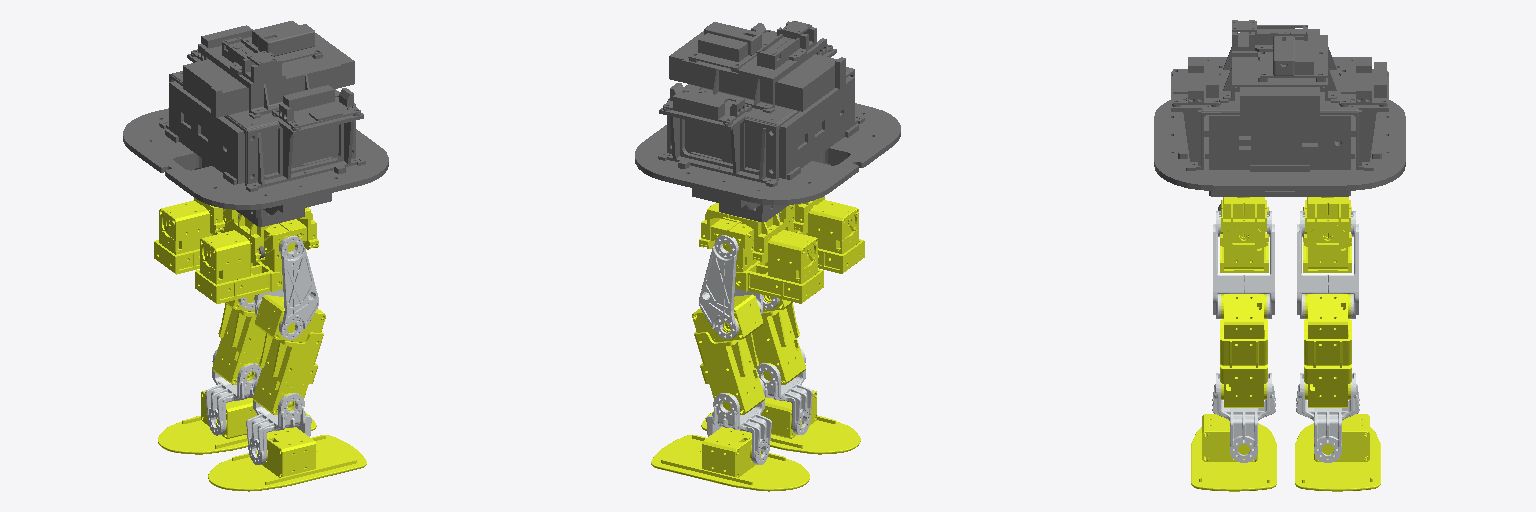
URDF robot description (exhx5_w_b_16):
<?xml version="1.0" encoding="utf-8"?>
<!-- This URDF was automatically created by SolidWorks to URDF Exporter! Originally created by [author] ([email redacted]) 
     Commit Version: 1.5.1-0-g916b5db  Build Version: 1.5.7152.31018
     For more information, please see http://wiki.ros.org/sw_urdf_exporter -->
<robot
  name="exhx5_w_b_16">
  <link
    name="body_link">
    <inertial>
      <origin
        xyz="0.00043545 0.00025536 0.10071"
        rpy="0 0 0" />
      <mass
        value="1.8238" />
      <inertia
        ixx="0.0025905"
        ixy="-5.6852E-06"
        ixz="-1.3106E-05"
        iyy="0.0024595"
        iyz="-1.261E-06"
        izz="0.0046407" />
    </inertial>
    <visual>
      <origin
        xyz="0 0 0"
        rpy="0 0 0" />
      <geometry>
        <mesh
          filename="../meshes/body_link.STL" />
      </geometry>
      <material
        name="">
        <color
          rgba="0.49804 0.49804 0.49804 1" />
      </material>
    </visual>
    <collision>
      <origin
        xyz="0 0 0"
        rpy="0 0 0" />
      <geometry>
        <mesh
          filename="../meshes/body_link.STL" />
      </geometry>
    </collision>
  </link>

  <link
    name="imu_link">
    <inertial>
      <origin
        xyz="-0.008387 1.336E-17 -0.0069463"
        rpy="0 0 0" />
      <mass
        value="0.0062931" />
      <inertia
        ixx="3.2242E-07"
        ixy="3.3527E-22"
        ixz="-6.9193E-08"
        iyy="9.2229E-07"
        iyz="-8.0392E-22"
        izz="1.1018E-06" />
    </inertial>
    <visual>
      <origin
        xyz="0 0 0"
        rpy="0 0 0" />
      <geometry>
        <mesh
          filename="../meshes/imu_link.STL" />
      </geometry>
      <material
        name="">
        <color
          rgba="0.79216 0.81961 0.93333 1" />
      </material>
    </visual>
    <collision>
      <origin
        xyz="0 0 0"
        rpy="0 0 0" />
      <geometry>
        <mesh
          filename="../meshes/imu_link.STL" />
      </geometry>
    </collision>
  </link>
  <joint
    name="imu"
    type="fixed">
    <origin
      xyz="0 0 0.0492"
      rpy="0 0 0" />
    <parent
      link="body_link" />
    <child
      link="imu_link" />
    <axis
      xyz="0 0 0" />
    <limit
      lower="-3.14"
      upper="3.14"
      effort="4"
      velocity="4" />
  </joint>
  <link
    name="l_hip_g_link">
    <inertial>
      <origin
        xyz="-0.0043797 -8.6604E-08 0.011813"
        rpy="0 0 0" />
      <mass
        value="0.061008" />
      <inertia
        ixx="1.167E-05"
        ixy="7.1767E-11"
        ixz="9.1442E-09"
        iyy="2.2342E-05"
        iyz="2.5177E-11"
        izz="2.4892E-05" />
    </inertial>
    <visual>
      <origin
        xyz="0 0 0"
        rpy="0 0 0" />
      <geometry>
        <mesh
          filename="../meshes/l_hip_g_link.STL" />
      </geometry>
      <material
        name="">
        <color
          rgba="0.9451 1 0.18431 1" />
      </material>
    </visual>
    <collision>
      <origin
        xyz="0 0 0"
        rpy="0 0 0" />
      <geometry>
        <mesh
          filename="../meshes/l_hip_g_link.STL" />
      </geometry>
    </collision>
  </link>
  <joint
    name="l_hip_g"
    type="fixed">
    <origin
      xyz=".001 .040 0"
      rpy="0 0 0" />
    <parent
      link="body_link" />
    <child
      link="l_hip_g_link" />
    <axis
      xyz="0 0 0" />
  </joint>
  <link
    name="l_hip_roll_link">
    <inertial>
      <origin
        xyz="0.013831 0.00033457 0.025453"
        rpy="0 0 0" />
      <mass
        value="0.2969" />
      <inertia
        ixx="7.8136E-05"
        ixy="7.265E-07"
        ixz="-6.9809E-08"
        iyy="9.2183E-05"
        iyz="-5.6881E-11"
        izz="7.1034E-05" />
    </inertial>
    <visual>
      <origin
        xyz="0 0 0"
        rpy="0 0 0" />
      <geometry>
        <mesh
          filename="../meshes/l_hip_roll_link.STL" />
      </geometry>
      <material
        name="">
        <color
          rgba="0.9451 1 0.18431 1" />
      </material>
    </visual>
    <collision>
      <origin
        xyz="0 0 0"
        rpy="0 0 0" />
      <geometry>
        <mesh
          filename="../meshes/l_hip_roll_link.STL" />
      </geometry>
    </collision>
  </link>
  <joint
    name="l_hip_roll"
    type="revolute">
    <origin
      xyz="0 0 0"
      rpy="3.1416 1.5708 0" />
    <parent
      link="l_hip_g_link" />
    <child
      link="l_hip_roll_link" />
    <axis
      xyz="0 0 1" />
    <limit
      lower="-3.14"
      upper="3.14"
      effort="4"
      velocity="4" />
  </joint>
  <link
    name="l_hip_pitch_link">
    <inertial>
      <origin
        xyz="0.041225 -0.007321 -5.0713E-08"
        rpy="0 0 0" />
      <mass
        value="0.051592" />
      <inertia
        ixx="2.7959E-05"
        ixy="2.0752E-06"
        ixz="-8.0934E-11"
        iyy="4.8156E-05"
        iyz="3.6317E-11"
        izz="2.9604E-05" />
    </inertial>
    <visual>
      <origin
        xyz="0 0 0"
        rpy="0 0 0" />
      <geometry>
        <mesh
          filename="../meshes/l_hip_pitch_link.STL" />
      </geometry>
      <material
        name="">
        <color
          rgba="0.89804 0.91765 0.92941 1" />
      </material>
    </visual>
    <collision>
      <origin
        xyz="0 0 0"
        rpy="0 0 0" />
      <geometry>
        <mesh
          filename="../meshes/l_hip_pitch_link.STL" />
      </geometry>
    </collision>
  </link>
  <joint
    name="l_hip_pitch"
    type="revolute">
    <origin
      xyz="0 0 0"
      rpy="1.5708 0 0" />
    <parent
      link="l_hip_roll_link" />
    <child
      link="l_hip_pitch_link" />
    <axis
      xyz="0 0 1" />
    <limit
      lower="-3.14"
      upper="3.14"
      effort="4"
      velocity="4" />
  </joint>
  <link
    name="l_knee_link">
    <inertial>
      <origin
        xyz="0.033756 -0.0084189 -6.6115E-09"
        rpy="0 0 0" />
      <mass
        value="0.28878" />
      <inertia
        ixx="6.6724E-05"
        ixy="7.5004E-07"
        ixz="-8.4578E-07"
        iyy="6.5699E-05"
        iyz="4.1085E-07"
        izz="7.0381E-05" />
    </inertial>
    <visual>
      <origin
        xyz="0 0 0"
        rpy="0 0 0" />
      <geometry>
        <mesh
          filename="../meshes/l_knee_link.STL" />
      </geometry>
      <material
        name="">
        <color
          rgba="0.9451 1 0.18431 1" />
      </material>
    </visual>
    <collision>
      <origin
        xyz="0 0 0"
        rpy="0 0 0" />
      <geometry>
        <mesh
          filename="../meshes/l_knee_link.STL" />
      </geometry>
    </collision>
  </link>
  <joint
    name="l_knee"
    type="revolute">
    <origin
      xyz="0.075954 0 0"
      rpy="0 0 0" />
    <parent
      link="l_hip_pitch_link" />
    <child
      link="l_knee_link" />
    <axis
      xyz="0 0 1" />
    <limit
      lower="-3.14"
      upper="3.14"
      effort="4"
      velocity="4" />
  </joint>
  <link
    name="l_ank_pitch_link">
    <inertial>
      <origin
        xyz="0.022786 -7.3909E-09 -7.1981E-06"
        rpy="0 0 0" />
      <mass
        value="0.044772" />
      <inertia
        ixx="1.777E-05"
        ixy="8.555E-14"
        ixz="-3.3713E-09"
        iyy="1.7119E-05"
        iyz="1.7593E-11"
        izz="1.8661E-05" />
    </inertial>
    <visual>
      <origin
        xyz="0 0 0"
        rpy="0 0 0" />
      <geometry>
        <mesh
          filename="../meshes/l_ank_pitch_link.STL" />
      </geometry>
      <material
        name="">
        <color
          rgba="0.89804 0.91765 0.92941 1" />
      </material>
    </visual>
    <collision>
      <origin
        xyz="0 0 0"
        rpy="0 0 0" />
      <geometry>
        <mesh
          filename="../meshes/l_ank_pitch_link.STL" />
      </geometry>
    </collision>
  </link>
  <joint
    name="l_ank_pitch"
    type="revolute">
    <origin
      xyz="0.074602 0 0"
      rpy="3.1416 0 0" />
    <parent
      link="l_knee_link" />
    <child
      link="l_ank_pitch_link" />
    <axis
      xyz="0 0 1" />
    <limit
      lower="-3.14"
      upper="3.14"
      effort="4"
      velocity="4" />
  </joint>
  <link
    name="l_ank_roll_link">
    <inertial>
      <origin
        xyz="0.0047069 0.010728 0.0015299"
        rpy="0 0 0" />
      <mass
        value="0.16774" />
      <inertia
        ixx="0.00012039"
        ixy="-3.7428E-09"
        ixz="4.4069E-08"
        iyy="8.7735E-05"
        iyz="7.0469E-07"
        izz="4.7866E-05" />
    </inertial>
    <visual>
      <origin
        xyz="0 0 0"
        rpy="0 0 0" />
      <geometry>
        <mesh
          filename="../meshes/l_ank_roll_link.STL" />
      </geometry>
      <material
        name="">
        <color
          rgba="0.9451 1 0.18431 1" />
      </material>
    </visual>
    <collision>
      <origin
        xyz="0 0 0"
        rpy="0 0 0" />
      <geometry>
        <mesh
          filename="../meshes/l_ank_roll_link.STL" />
      </geometry>
    </collision>
  </link>
  <joint
    name="l_ank_roll"
    type="revolute">
    <origin
      xyz="0.0465 0 0"
      rpy="-1.5708 0 0" />
    <parent
      link="l_ank_pitch_link" />
    <child
      link="l_ank_roll_link" />
    <axis
      xyz="0 0 1" />
    <limit
      lower="-3.14"
      upper="3.14"
      effort="4"
      velocity="4" />
  </joint>
  <link
    name="r_hip_g_link">
    <inertial>
      <origin
        xyz="-0.0043797 -8.6604E-08 0.011813"
        rpy="0 0 0" />
      <mass
        value="0.061008" />
      <inertia
        ixx="1.167E-05"
        ixy="7.1767E-11"
        ixz="9.1442E-09"
        iyy="2.2342E-05"
        iyz="2.5177E-11"
        izz="2.4892E-05" />
    </inertial>
    <visual>
      <origin
        xyz="0 0 0"
        rpy="0 0 0" />
      <geometry>
        <mesh
          filename="../meshes/r_hip_g_link.STL" />
      </geometry>
      <material
        name="">
        <color
          rgba="0.9451 1 0.18431 1" />
      </material>
    </visual>
    <collision>
      <origin
        xyz="0 0 0"
        rpy="0 0 0" />
      <geometry>
        <mesh
          filename="../meshes/r_hip_g_link.STL" />
      </geometry>
    </collision>
  </link>
  <joint
    name="r_hip_g"
    type="fixed">
    <origin
      xyz=".001 -.030 0"
      rpy="0 0 0" />
    <parent
      link="body_link" />
    <child
      link="r_hip_g_link" />
    <axis
      xyz="0 0 0" />
  </joint>
  <link
    name="r_hip_roll_link">
    <inertial>
      <origin
        xyz="0.013831 0.00033457 0.025453"
        rpy="0 0 0" />
      <mass
        value="0.2969" />
      <inertia
        ixx="7.8136E-05"
        ixy="7.265E-07"
        ixz="-6.9809E-08"
        iyy="9.2183E-05"
        iyz="-5.6881E-11"
        izz="7.1034E-05" />
    </inertial>
    <visual>
      <origin
        xyz="0 0 0"
        rpy="0 0 0" />
      <geometry>
        <mesh
          filename="../meshes/r_hip_roll_link.STL" />
      </geometry>
      <material
        name="">
        <color
          rgba="0.9451 1 0.18431 1" />
      </material>
    </visual>
    <collision>
      <origin
        xyz="0 0 0"
        rpy="0 0 0" />
      <geometry>
        <mesh
          filename="../meshes/r_hip_roll_link.STL" />
      </geometry>
    </collision>
  </link>
  <joint
    name="r_hip_roll"
    type="revolute">
    <origin
      xyz="0 0 0"
      rpy="3.1416 1.5708 0" />
    <parent
      link="r_hip_g_link" />
    <child
      link="r_hip_roll_link" />
    <axis
      xyz="0 0 1" />
    <limit
      lower="-3.14"
      upper="3.14"
      effort="4"
      velocity="4" />
  </joint>
  <link
    name="r_hip_pitch_link">
    <inertial>
      <origin
        xyz="0.041225 0.007321 5.0713E-08"
        rpy="0 0 0" />
      <mass
        value="0.051592" />
      <inertia
        ixx="2.7959E-05"
        ixy="-2.0752E-06"
        ixz="8.0934E-11"
        iyy="4.8156E-05"
        iyz="3.6317E-11"
        izz="2.9604E-05" />
    </inertial>
    <visual>
      <origin
        xyz="0 0 0"
        rpy="0 0 0" />
      <geometry>
        <mesh
          filename="../meshes/r_hip_pitch_link.STL" />
      </geometry>
      <material
        name="">
        <color
          rgba="0.89804 0.91765 0.92941 1" />
      </material>
    </visual>
    <collision>
      <origin
        xyz="0 0 0"
        rpy="0 0 0" />
      <geometry>
        <mesh
          filename="../meshes/r_hip_pitch_link.STL" />
      </geometry>
    </collision>
  </link>
  <joint
    name="r_hip_pitch"
    type="revolute">
    <origin
      xyz="0 0 0"
      rpy="-1.5708 0 0" />
    <parent
      link="r_hip_roll_link" />
    <child
      link="r_hip_pitch_link" />
    <axis
      xyz="0 0 1" />
    <limit
      lower="-3.14"
      upper="3.14"
      effort="4"
      velocity="4" />
  </joint>
  <link
    name="r_knee_link">
    <inertial>
      <origin
        xyz="0.033757 0.0084176 6.6115E-09"
        rpy="0 0 0" />
      <mass
        value="0.28878" />
      <inertia
        ixx="6.6724E-05"
        ixy="-7.5008E-07"
        ixz="8.458E-07"
        iyy="6.5699E-05"
        iyz="4.1081E-07"
        izz="7.0381E-05" />
    </inertial>
    <visual>
      <origin
        xyz="0 0 0"
        rpy="0 0 0" />
      <geometry>
        <mesh
          filename="../meshes/r_knee_link.STL" />
      </geometry>
      <material
        name="">
        <color
          rgba="0.9451 1 0.18431 1" />
      </material>
    </visual>
    <collision>
      <origin
        xyz="0 0 0"
        rpy="0 0 0" />
      <geometry>
        <mesh
          filename="../meshes/r_knee_link.STL" />
      </geometry>
    </collision>
  </link>
  <joint
    name="r_knee"
    type="revolute">
    <origin
      xyz="0.075954 0 0"
      rpy="0 0 0" />
    <parent
      link="r_hip_pitch_link" />
    <child
      link="r_knee_link" />
    <axis
      xyz="0 0 1" />
    <limit
      lower="-3.14"
      upper="3.14"
      effort="4"
      velocity="4" />
  </joint>
  <link
    name="r_ank_pitch_link">
    <inertial>
      <origin
        xyz="0.025786 -7.3887E-09 -7.1981E-06"
        rpy="0 0 0" />
      <mass
        value="0.044772" />
      <inertia
        ixx="1.777E-05"
        ixy="8.5434E-14"
        ixz="-3.3713E-09"
        iyy="1.7119E-05"
        iyz="1.7592E-11"
        izz="1.8661E-05" />
    </inertial>
    <visual>
      <origin
        xyz="0 0 0"
        rpy="0 0 0" />
      <geometry>
        <mesh
          filename="../meshes/r_ank_pitch_link.STL" />
      </geometry>
      <material
        name="">
        <color
          rgba="0.89804 0.91765 0.92941 1" />
      </material>
    </visual>
    <collision>
      <origin
        xyz="0 0 0"
        rpy="0 0 0" />
      <geometry>
        <mesh
          filename="../meshes/r_ank_pitch_link.STL" />
      </geometry>
    </collision>
  </link>
  <joint
    name="r_ank_pitch"
    type="revolute">
    <origin
      xyz="0.071602 0 0"
      rpy="3.1416 0 0" />
    <parent
      link="r_knee_link" />
    <child
      link="r_ank_pitch_link" />
    <axis
      xyz="0 0 1" />
    <limit
      lower="-3.14"
      upper="3.14"
      effort="4"
      velocity="4" />
  </joint>
  <link
    name="r_ank_roll_link">
    <inertial>
      <origin
        xyz="0.0077069 -0.010728 0.0015299"
        rpy="0 0 0" />
      <mass
        value="0.16774" />
      <inertia
        ixx="0.00012039"
        ixy="3.743E-09"
        ixz="4.407E-08"
        iyy="8.7735E-05"
        iyz="-7.0467E-07"
        izz="4.7866E-05" />
    </inertial>
    <visual>
      <origin
        xyz="0 0 0"
        rpy="0 0 0" />
      <geometry>
        <mesh
          filename="../meshes/r_ank_roll_link.STL" />
      </geometry>
      <material
        name="">
        <color
          rgba="0.9451 1 0.18431 1" />
      </material>
    </visual>
    <collision>
      <origin
        xyz="0 0 0"
        rpy="0 0 0" />
      <geometry>
        <mesh
          filename="../meshes/r_ank_roll_link.STL" />
      </geometry>
    </collision>
  </link>
  <joint
    name="r_ank_roll"
    type="revolute">
    <origin
      xyz="0.0465 0 0"
      rpy="1.5708 0 0" />
    <parent
      link="r_ank_pitch_link" />
    <child
      link="r_ank_roll_link" />
    <axis
      xyz="0 0 1" />
    <limit
      lower="-3.14"
      upper="3.14"
      effort="4"
      velocity="4" />
  </joint>
  <transmission name="r_hip_roll_tran">
    <type>transmission_interface/SimpleTransmission</type>
    <joint name="r_hip_roll">
      <hardwareInterface>hardware_interface/EffortJointInterface</hardwareInterface>
    </joint>
    <actuator name="r_hip_roll_motor">
      <hardwareInterface>hardware_interface/EffortJointInterface</hardwareInterface>
      <mechanicalReduction>1</mechanicalReduction>
    </actuator>
  </transmission>
  <transmission name="r_hip_pitch_tran">
    <type>transmission_interface/SimpleTransmission</type>
    <joint name="r_hip_pitch">
      <hardwareInterface>hardware_interface/EffortJointInterface</hardwareInterface>
    </joint>
    <actuator name="r_hip_pitch_motor">
      <hardwareInterface>hardware_interface/EffortJointInterface</hardwareInterface>
      <mechanicalReduction>1</mechanicalReduction>
    </actuator>
  </transmission>
  <transmission name="r_knee_tran">
    <type>transmission_interface/SimpleTransmission</type>
    <joint name="r_knee">
      <hardwareInterface>hardware_interface/EffortJointInterface</hardwareInterface>
    </joint>
    <actuator name="r_knee_motor">
      <hardwareInterface>hardware_interface/EffortJointInterface</hardwareInterface>
      <mechanicalReduction>1</mechanicalReduction>
    </actuator>
  </transmission>
  <transmission name="r_ank_pitch_tran">
    <type>transmission_interface/SimpleTransmission</type>
    <joint name="r_ank_pitch">
      <hardwareInterface>hardware_interface/EffortJointInterface</hardwareInterface>
    </joint>
    <actuator name="r_ank_pitch_motor">
      <hardwareInterface>hardware_interface/EffortJointInterface</hardwareInterface>
      <mechanicalReduction>1</mechanicalReduction>
    </actuator>
  </transmission>
  <transmission name="r_ank_roll_tran">
    <type>transmission_interface/SimpleTransmission</type>
    <joint name="r_ank_roll">
      <hardwareInterface>hardware_interface/EffortJointInterface</hardwareInterface>
    </joint>
    <actuator name="r_ank_roll_motor">
      <hardwareInterface>hardware_interface/EffortJointInterface</hardwareInterface>
      <mechanicalReduction>1</mechanicalReduction>
    </actuator>
  </transmission>
  <transmission name="l_hip_roll_tran">
    <type>transmission_interface/SimpleTransmission</type>
    <joint name="l_hip_roll">
      <hardwareInterface>hardware_interface/EffortJointInterface</hardwareInterface>
    </joint>
    <actuator name="l_hip_roll_motor">
      <hardwareInterface>hardware_interface/EffortJointInterface</hardwareInterface>
      <mechanicalReduction>1</mechanicalReduction>
    </actuator>
  </transmission>
  <transmission name="l_hip_pitch_tran">
    <type>transmission_interface/SimpleTransmission</type>
    <joint name="l_hip_pitch">
      <hardwareInterface>hardware_interface/EffortJointInterface</hardwareInterface>
    </joint>
    <actuator name="l_hip_pitch_motor">
      <hardwareInterface>hardware_interface/EffortJointInterface</hardwareInterface>
      <mechanicalReduction>1</mechanicalReduction>
    </actuator>
  </transmission>
  <transmission name="l_knee_tran">
    <type>transmission_interface/SimpleTransmission</type>
    <joint name="l_knee">
      <hardwareInterface>hardware_interface/EffortJointInterface</hardwareInterface>
    </joint>
    <actuator name="l_knee_motor">
      <hardwareInterface>hardware_interface/EffortJointInterface</hardwareInterface>
      <mechanicalReduction>1</mechanicalReduction>
    </actuator>
  </transmission>
  <transmission name="l_ank_pitch_tran">
    <type>transmission_interface/SimpleTransmission</type>
    <joint name="l_ank_pitch">
      <hardwareInterface>hardware_interface/EffortJointInterface</hardwareInterface>
    </joint>
    <actuator name="l_ank_pitch_motor">
      <hardwareInterface>hardware_interface/EffortJointInterface</hardwareInterface>
      <mechanicalReduction>1</mechanicalReduction>
    </actuator>
  </transmission>
  <transmission name="l_ank_roll_tran">
    <type>transmission_interface/SimpleTransmission</type>
    <joint name="l_ank_roll">
      <hardwareInterface>hardware_interface/EffortJointInterface</hardwareInterface>
    </joint>
    <actuator name="l_ank_roll_motor">
      <hardwareInterface>hardware_interface/EffortJointInterface</hardwareInterface>
      <mechanicalReduction>1</mechanicalReduction>
    </actuator>
  </transmission>
</robot>

--- Facts derived from the render (not from the file) ---
3 views of the same robot in one strip: view 1: azimuth 30°, elevation 25°; view 2: azimuth 150°, elevation 25°; view 3: azimuth 270°, elevation 25° (orthographic).
Robot: exhx5_w_b_16 — 14 links, 13 joints (10 revolute, 3 fixed); root link body_link; default pose: all joints at 0.
Links seen in each view (by area): view 1: body_link, r_ank_roll_link, r_hip_roll_link, r_knee_link, l_hip_roll_link, l_ank_roll_link, r_hip_pitch_link, l_knee_link, r_ank_pitch_link, l_ank_pitch_link, r_hip_g_link; view 2: body_link, l_ank_roll_link, l_hip_roll_link, l_knee_link, r_hip_roll_link, r_ank_roll_link, l_hip_pitch_link, r_knee_link, l_ank_pitch_link, r_ank_pitch_link, l_hip_g_link; view 3: body_link, l_knee_link, r_knee_link, l_ank_roll_link, r_ank_roll_link, l_hip_pitch_link, r_hip_pitch_link, l_hip_g_link, r_hip_g_link, l_ank_pitch_link, r_ank_pitch_link, l_hip_roll_link (+1 smaller).
Link boxes in pixels (x1=…): body_link: x1=123, y1=21, x2=388, y2=258; r_ank_roll_link: x1=208, y1=427, x2=366, y2=491; r_hip_roll_link: x1=195, y1=219, x2=306, y2=303; r_knee_link: x1=253, y1=295, x2=325, y2=414; l_hip_roll_link: x1=154, y1=200, x2=239, y2=274; l_ank_roll_link: x1=158, y1=390, x2=316, y2=454; r_hip_pitch_link: x1=255, y1=235, x2=318, y2=339; l_knee_link: x1=212, y1=295, x2=265, y2=384; r_ank_pitch_link: x1=246, y1=378, x2=311, y2=464; l_ank_pitch_link: x1=205, y1=349, x2=261, y2=435; r_hip_g_link: x1=234, y1=207, x2=318, y2=262; body_link: x1=635, y1=21, x2=900, y2=222; l_ank_roll_link: x1=651, y1=427, x2=809, y2=491; l_hip_roll_link: x1=711, y1=217, x2=823, y2=303; l_knee_link: x1=692, y1=294, x2=764, y2=414; r_hip_roll_link: x1=779, y1=200, x2=864, y2=273; r_ank_roll_link: x1=701, y1=390, x2=860, y2=454; l_hip_pitch_link: x1=699, y1=235, x2=762, y2=339; r_knee_link: x1=752, y1=295, x2=805, y2=384; l_ank_pitch_link: x1=706, y1=378, x2=771, y2=464; r_ank_pitch_link: x1=756, y1=348, x2=812, y2=434; l_hip_g_link: x1=699, y1=203, x2=783, y2=262; body_link: x1=1154, y1=20, x2=1405, y2=210; l_knee_link: x1=1304, y1=294, x2=1351, y2=407; r_knee_link: x1=1220, y1=294, x2=1267, y2=407; l_ank_roll_link: x1=1295, y1=414, x2=1380, y2=491; r_ank_roll_link: x1=1191, y1=414, x2=1276, y2=491; l_hip_pitch_link: x1=1297, y1=211, x2=1358, y2=318; r_hip_pitch_link: x1=1213, y1=211, x2=1274, y2=318; l_hip_g_link: x1=1303, y1=197, x2=1351, y2=247; r_hip_g_link: x1=1220, y1=197, x2=1268, y2=247; l_ank_pitch_link: x1=1296, y1=373, x2=1359, y2=462; r_ank_pitch_link: x1=1212, y1=373, x2=1275, y2=462; l_hip_roll_link: x1=1303, y1=200, x2=1351, y2=272.
Size in the robot's own frame: 0.185 by 0.21 by 0.3893 metres.
14 mesh visuals loaded from 14 distinct referenced files (14 binary STL).
